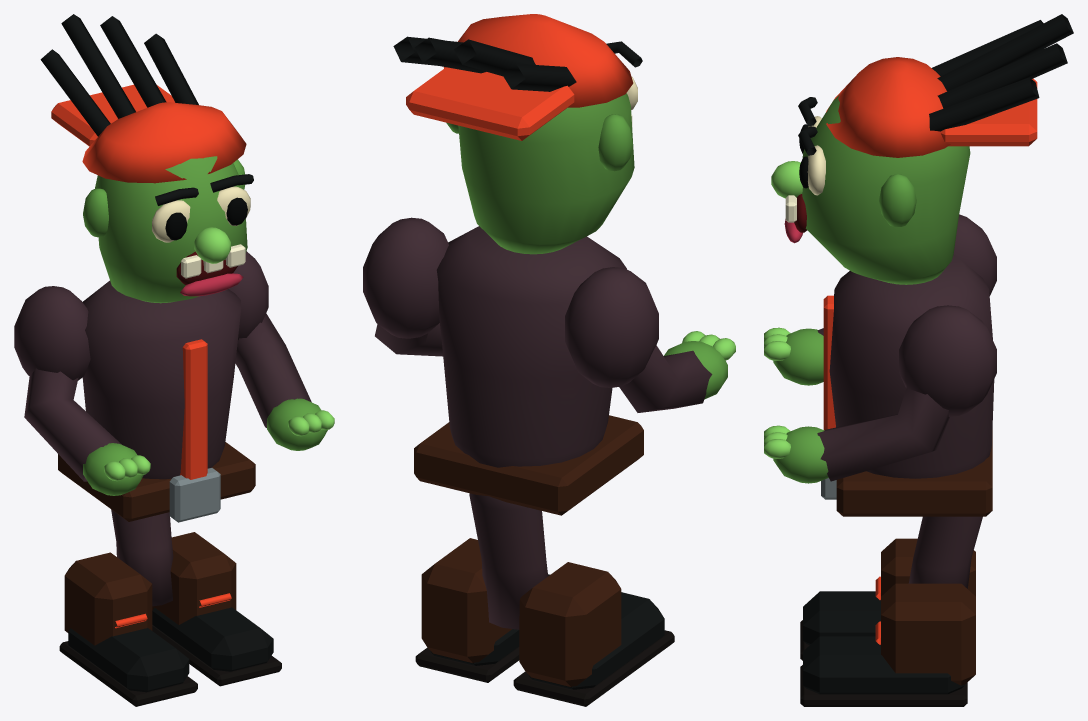
File: fast.glb
The picture shows the model from 3 angles, left to right: view 1: azimuth 30°, elevation 25°; view 2: azimuth 150°, elevation 25°; view 3: azimuth 270°, elevation 25°; orthographic projection. The views are drawn at different scales.
Visible parts, largest first — view 1: Head, Body, Arms, LegL, LegR; view 2: Body, Head, Arms, LegL, LegR; view 3: Head, Body, Arms, LegR, LegL.
Part boxes in pixels (bbox=[...]): Head: bbox=[40, 14, 253, 303]; Body: bbox=[58, 280, 255, 522]; Arms: bbox=[14, 251, 334, 495]; LegL: bbox=[59, 509, 197, 706]; LegR: bbox=[115, 512, 281, 686]; Body: bbox=[414, 226, 643, 515]; Head: bbox=[393, 14, 642, 254]; Arms: bbox=[363, 217, 735, 412]; LegL: bbox=[476, 495, 674, 706]; LegR: bbox=[415, 493, 549, 682]; Head: bbox=[771, 14, 1073, 284]; Body: bbox=[821, 254, 994, 516]; Arms: bbox=[764, 214, 996, 483]; LegR: bbox=[800, 516, 975, 706]; LegL: bbox=[800, 516, 982, 660].
Bounding box in the file's own units: 0.5769 × 1.28 × 0.5558.
1 material, 1 textured.
